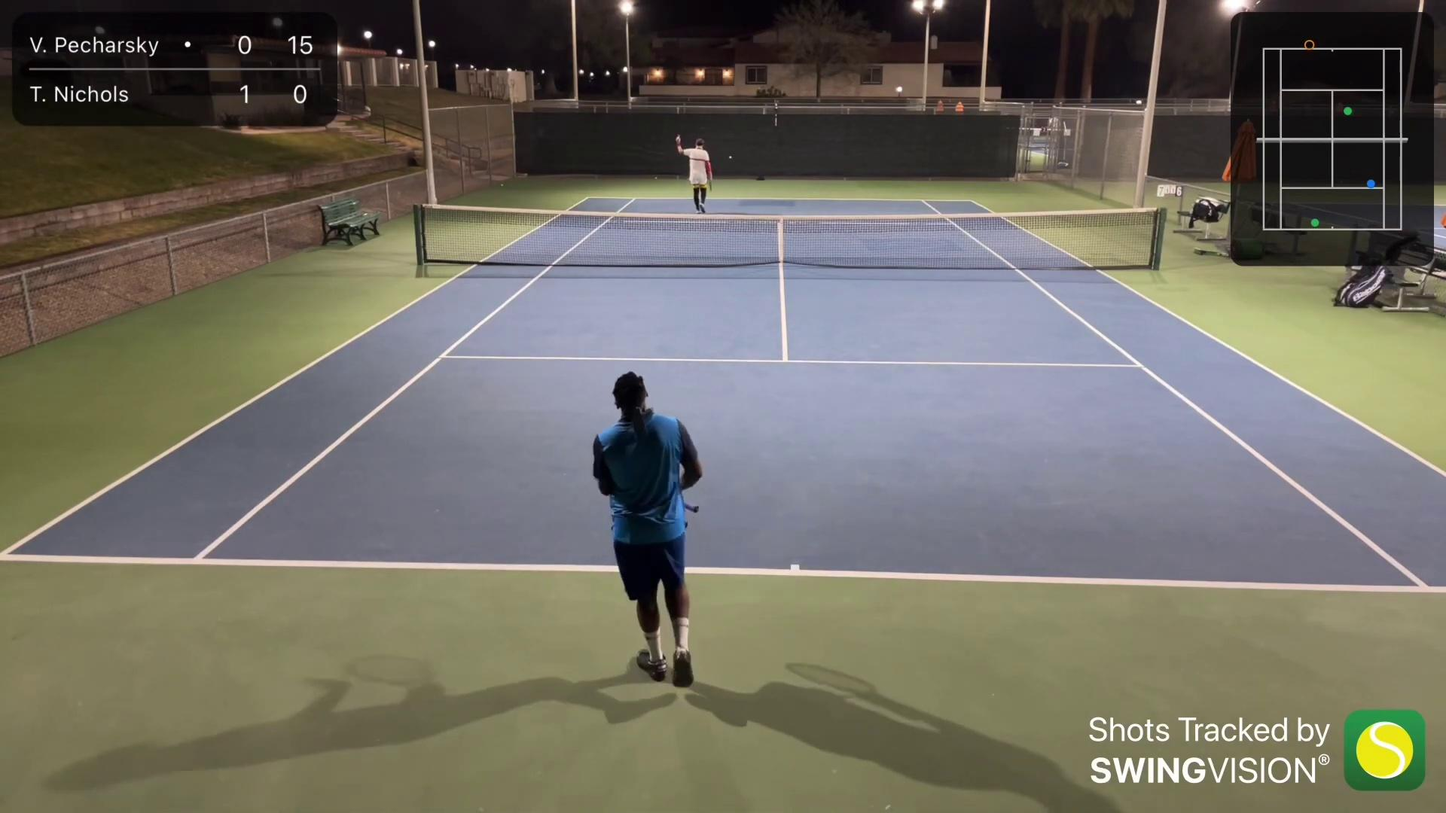ball: (728, 153, 734, 159), (499, 182, 504, 188)
